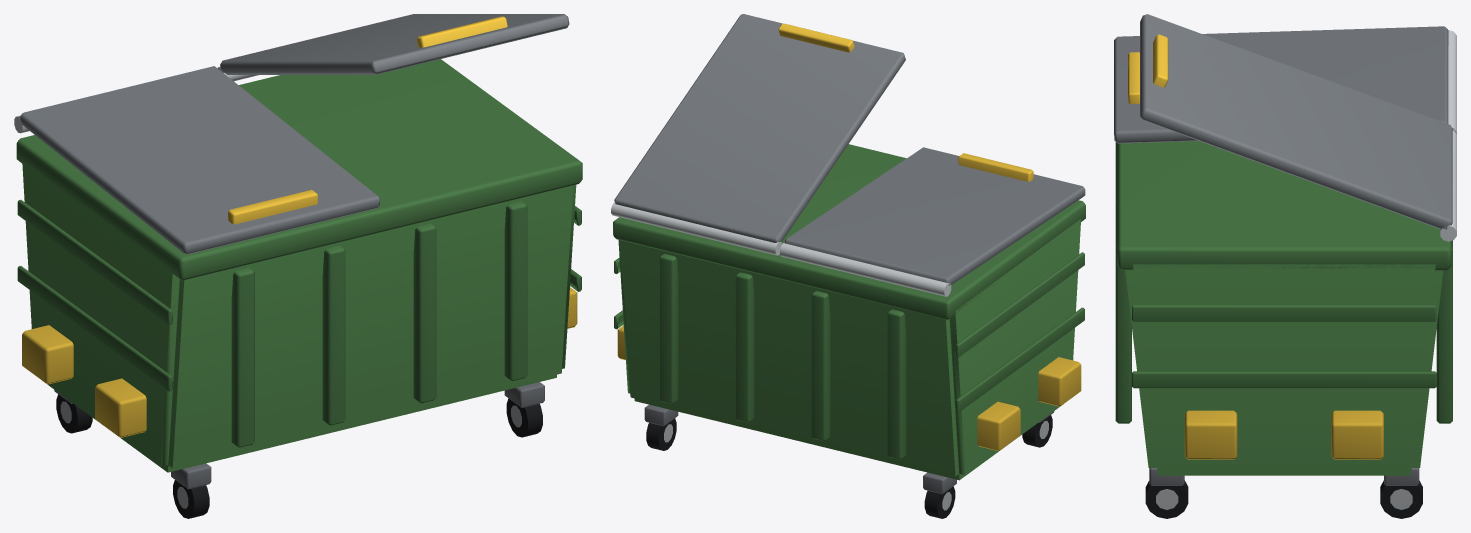
The model's file is SM_Dumpster_01.glb.
The picture shows the model from 3 angles, left to right: view 1: azimuth 30°, elevation 25°; view 2: azimuth 150°, elevation 25°; view 3: azimuth 270°, elevation 25°; orthographic projection. The views are drawn at different scales.
Visible parts, largest first — view 1: SM_Dumpster_01; view 2: SM_Dumpster_01; view 3: SM_Dumpster_01.
Boxes of the visible parts, x1,y1,x2,y2 form: SM_Dumpster_01: (14,14,582,518); SM_Dumpster_01: (611,14,1085,518); SM_Dumpster_01: (1114,14,1456,518).
Bounding box in the file's own units: 1.82 × 1.61 × 1.17.
1 material, 1 textured.
